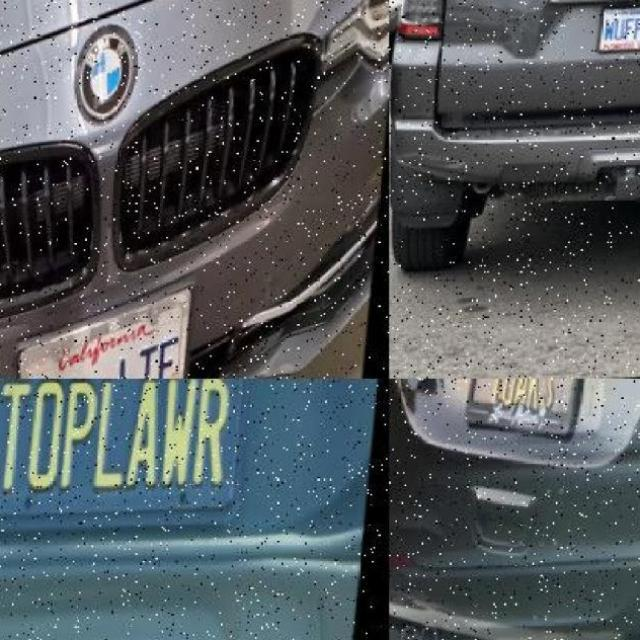LicensePlate: (0, 379, 266, 543), (25, 286, 199, 378), (475, 378, 589, 448), (601, 8, 640, 56)
